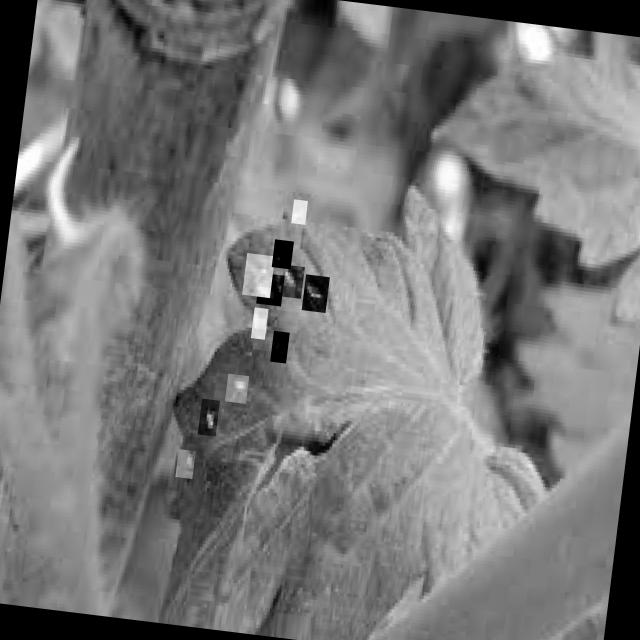aphid: (242, 253, 275, 298), (301, 274, 329, 312), (256, 272, 284, 306), (198, 398, 220, 436), (280, 264, 304, 298), (224, 374, 248, 404), (270, 331, 290, 364), (272, 239, 294, 269), (175, 448, 195, 478), (250, 307, 268, 339), (291, 198, 308, 224)
